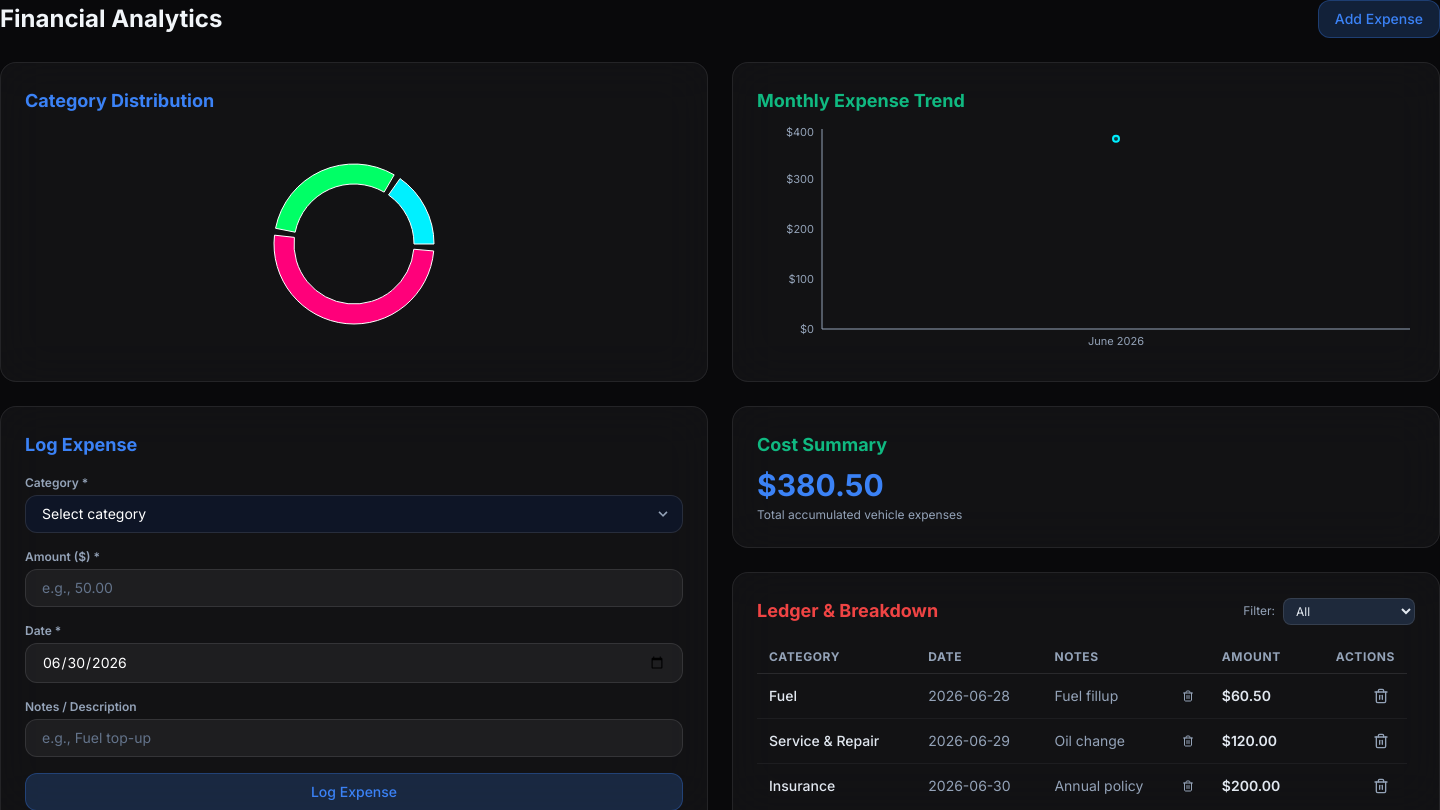
Scenario: FinanceView Unit Tests › Ledger List Display, Filtering, and Deletion Flow › hides item from list immediately when delete is clicked and opens confirm modal
// Trigger deletion modal by clicking the first trash button
Click the button with test id "delete-exp-2" next to "Oil change" at [1188, 741], box 1178,731 -> 1198,751
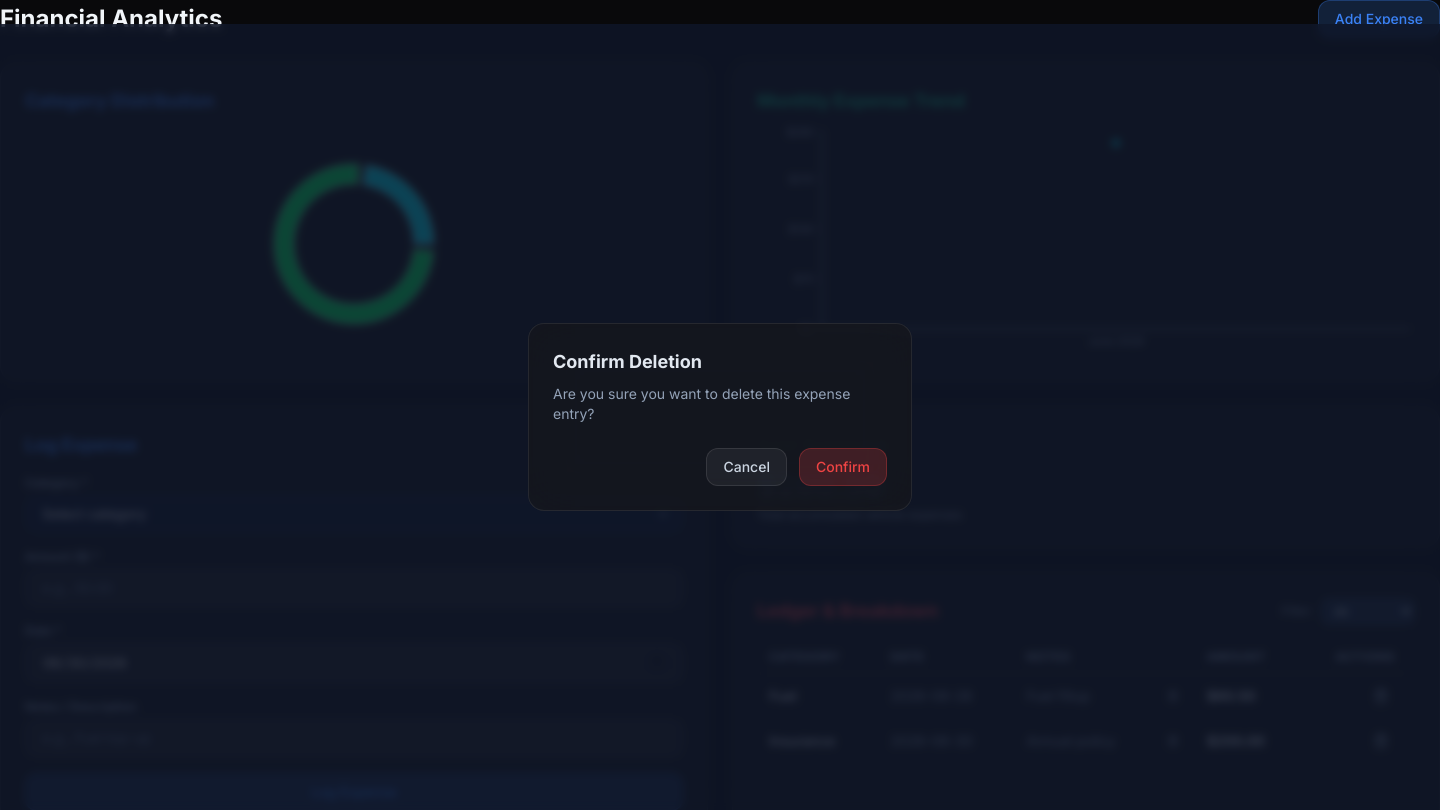
Now the text "Oil change" is gone
Now the text "$260.50" is shown, box 757,467 -> 883,503
Now the heading "Confirm Deletion" is shown, box 553,351 -> 702,372
